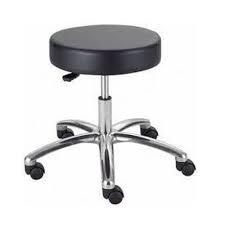stool: (23, 23, 196, 204)
